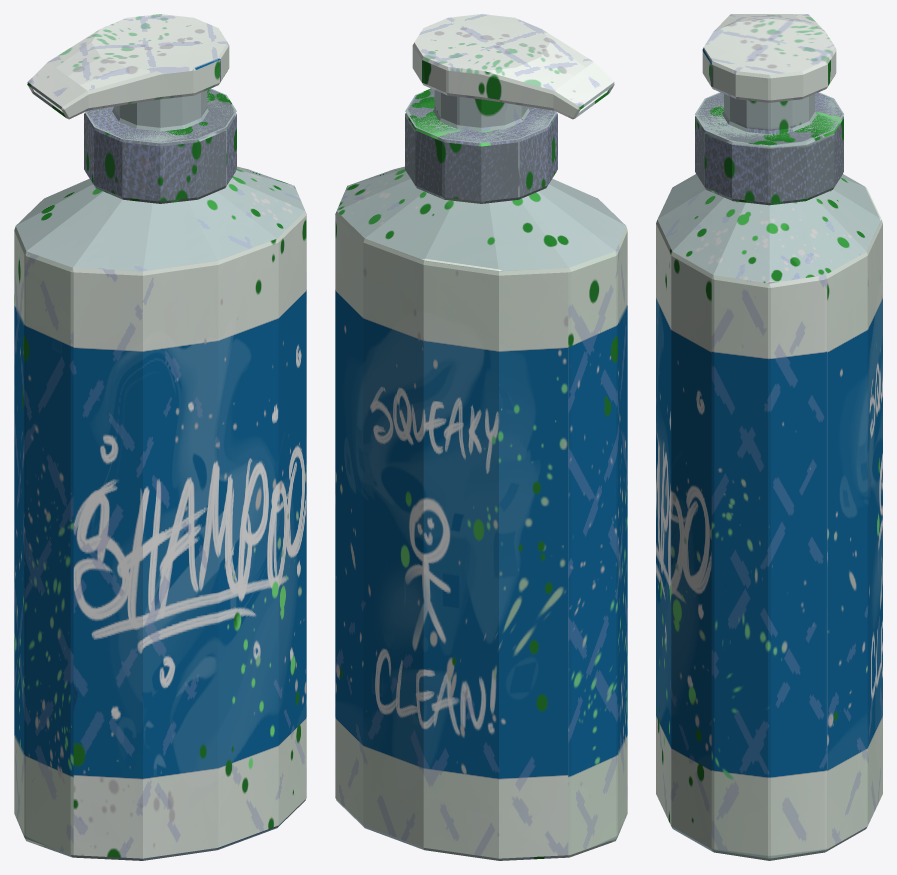
File: ShampooBottle (applied).fbx
3 views of the same model, side by side, from view 1: azimuth 30°, elevation 25°; view 2: azimuth 150°, elevation 25°; view 3: azimuth 270°, elevation 25° (orthographic). The views are drawn at different scales.
Parts seen in each view (by area): view 1: Cylinder; view 2: Cylinder; view 3: Cylinder.
Boxes of the visible parts, x1,y1,x2,y2 form: Cylinder: (14, 14, 306, 860); Cylinder: (335, 14, 627, 860); Cylinder: (656, 14, 882, 860).
Size of the model in its own units: 199 by 539 by 148.
1 material, 1 textured.
